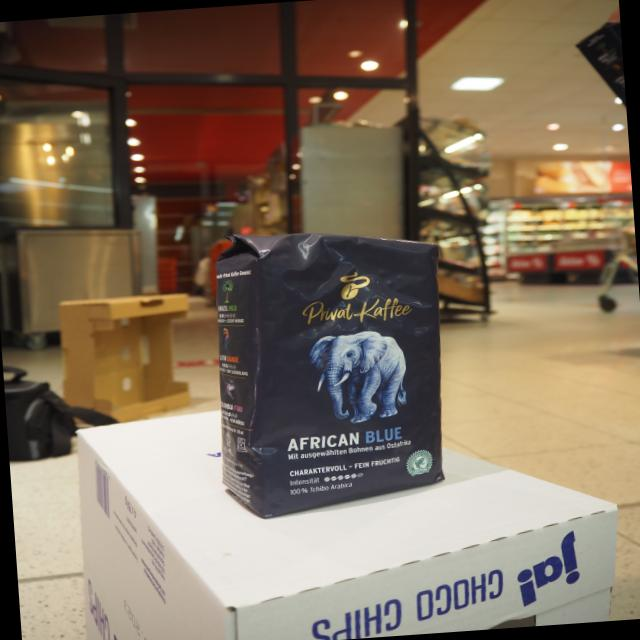AB Bohne: (251, 237, 446, 522)
